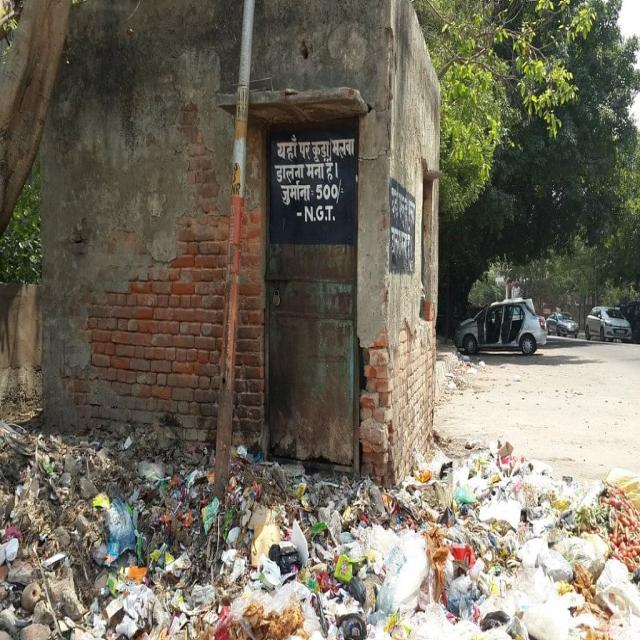garbage: (0, 353, 640, 640)
